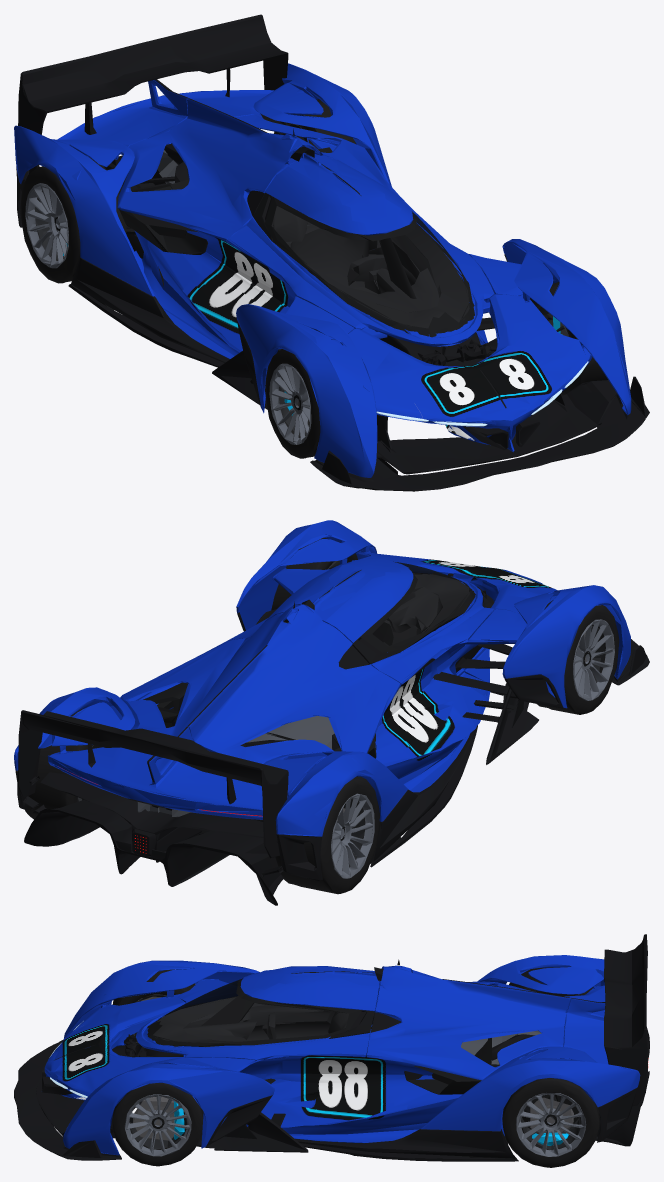
File: aegis_lod1.glb
3 renders of one model, top to bottom at view 1: azimuth 30°, elevation 25°; view 2: azimuth 150°, elevation 25°; view 3: azimuth 270°, elevation 25°, orthographic. The views are drawn at different scales.
Visible parts, largest first — view 1: Body, Wheel_RR, Wheel_FR, Wheel_FL; view 2: Body, Wheel_RR, Wheel_FR, Wheel_RL, Wheel_FL; view 3: Body, Wheel_RL, Wheel_FL, Wheel_FR.
Part boxes in pixels (<box>): Body: <box>14,14,649,491</box>; Wheel_RR: <box>20,158,126,283</box>; Wheel_FR: <box>265,349,320,458</box>; Wheel_FL: <box>530,282,607,395</box>; Body: <box>14,520,649,905</box>; Wheel_RR: <box>275,776,379,894</box>; Wheel_FR: <box>537,600,619,714</box>; Wheel_RL: <box>25,709,93,819</box>; Wheel_FL: <box>271,537,357,610</box>; Body: <box>14,934,649,1161</box>; Wheel_RL: <box>502,1078,599,1167</box>; Wheel_FL: <box>112,1083,203,1166</box>; Wheel_FR: <box>112,969,195,1042</box>.
Size of the model in its own units: 2.07 by 1.17 by 4.5.
Materials: 4 (3 with a texture image).
